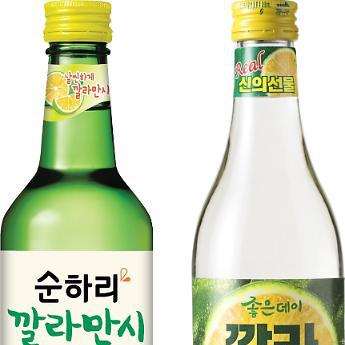soju: (188, 1, 344, 345), (1, 1, 155, 344)
